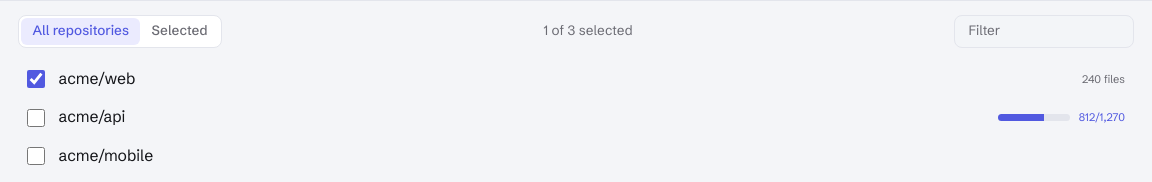
Test: SourceItemList (U3 — controlled) › the Selected tab shows only checked items
Click the button "Selected". click: (180, 31)
box: [140,18,219,45]
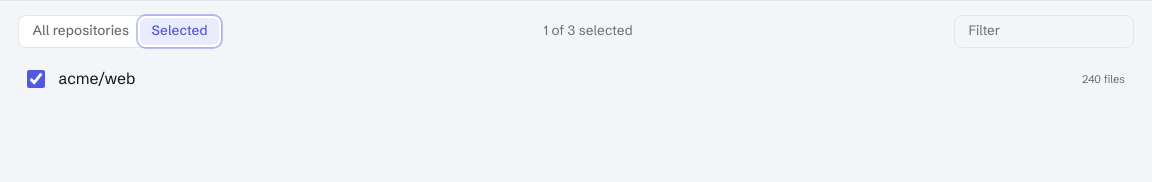
Expected: the text "acme/web" is shown, [58,69,135,88]
Now the text "acme/api" is gone
